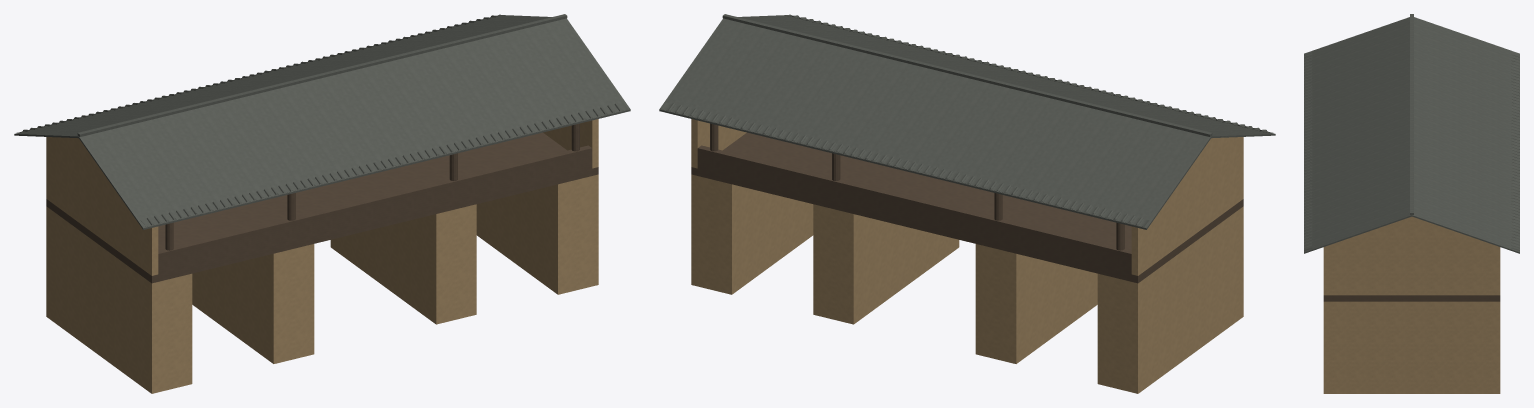
The model's file is gate-B-LOD1.glb.
3 views of the same model, side by side, from view 1: azimuth 30°, elevation 25°; view 2: azimuth 150°, elevation 25°; view 3: azimuth 270°, elevation 25° (orthographic). The views are drawn at different scales.
Parts seen in each view (by area): view 1: gate-B-static_tile, gate-B-static_earth, gate-B-static_timber; view 2: gate-B-static_tile, gate-B-static_earth, gate-B-static_timber; view 3: gate-B-static_tile, gate-B-static_earth, gate-B-static_timber.
Boxes of the visible parts, x1=… form: gate-B-static_tile: x1=14, y1=14, x2=630, y2=229; gate-B-static_earth: x1=46, y1=119, x2=598, y2=393; gate-B-static_timber: x1=46, y1=123, x2=598, y2=283; gate-B-static_tile: x1=659, y1=14, x2=1275, y2=229; gate-B-static_earth: x1=691, y1=119, x2=1243, y2=393; gate-B-static_timber: x1=691, y1=123, x2=1243, y2=283; gate-B-static_tile: x1=1304, y1=14, x2=1519, y2=253; gate-B-static_earth: x1=1323, y1=216, x2=1500, y2=393; gate-B-static_timber: x1=1323, y1=295, x2=1500, y2=301.
Size of the model in its own units: 24 by 10.66 by 11.
3 materials, 3 textured.
